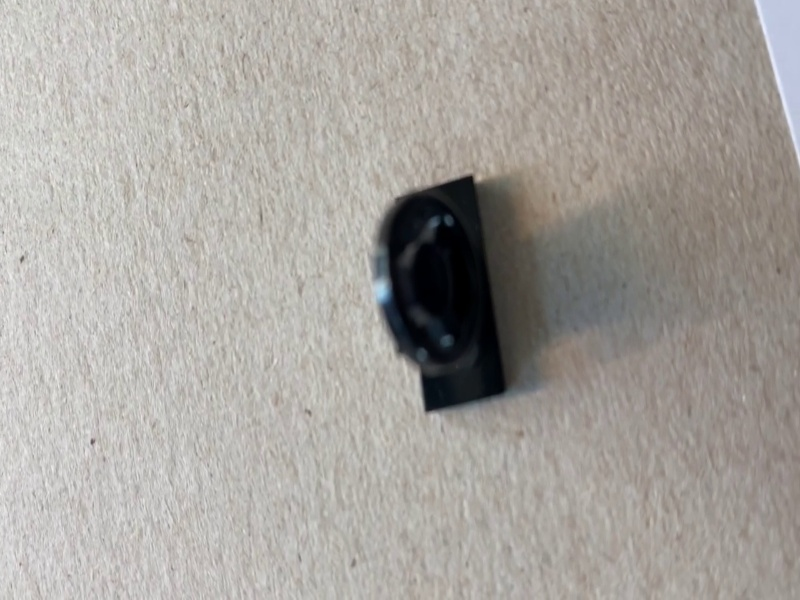steering wheel: (371, 172, 508, 413)
